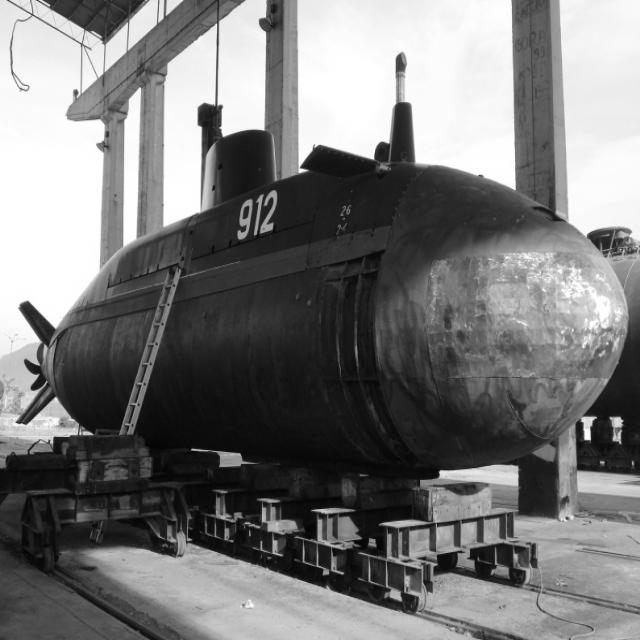submarine: (13, 65, 632, 481)
